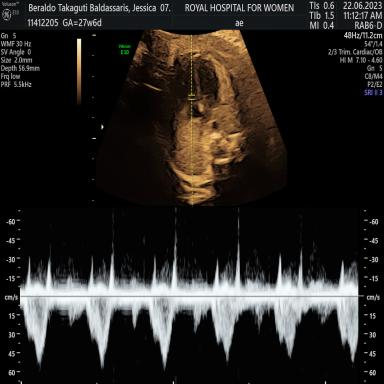Ultrasound-Waves: (24, 208, 358, 384)
